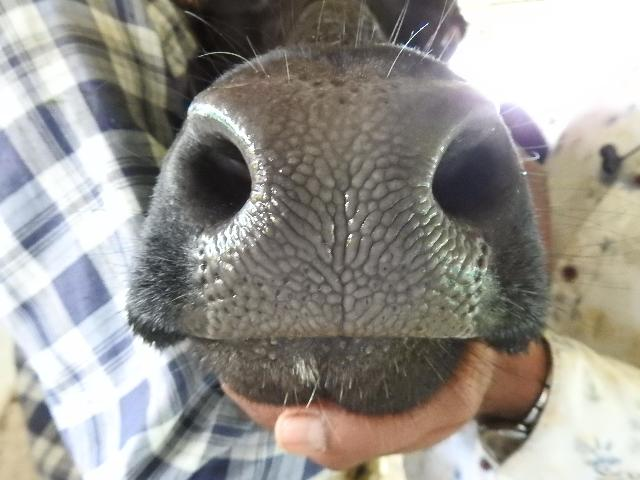Muzzle: (221, 88, 475, 348)
